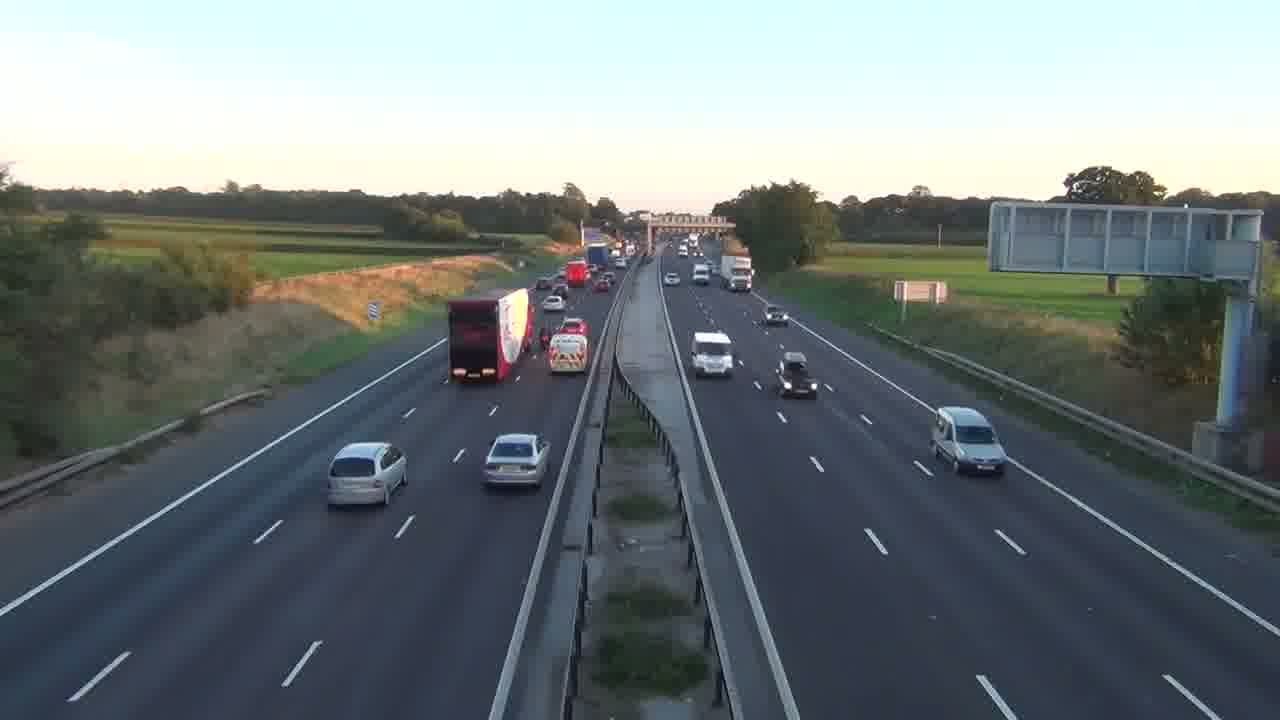car: (929, 405, 1009, 477), (326, 441, 408, 508), (481, 432, 550, 488)
truck: (447, 287, 533, 385), (691, 330, 734, 378)
